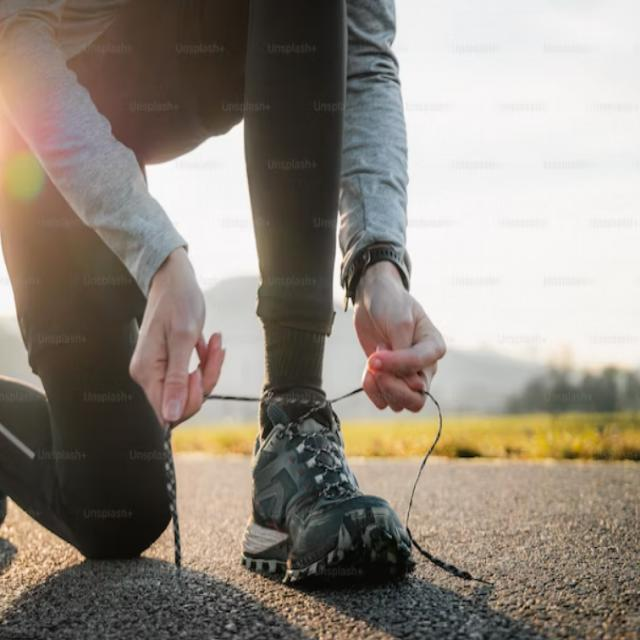Watch: (342, 242, 414, 296)
